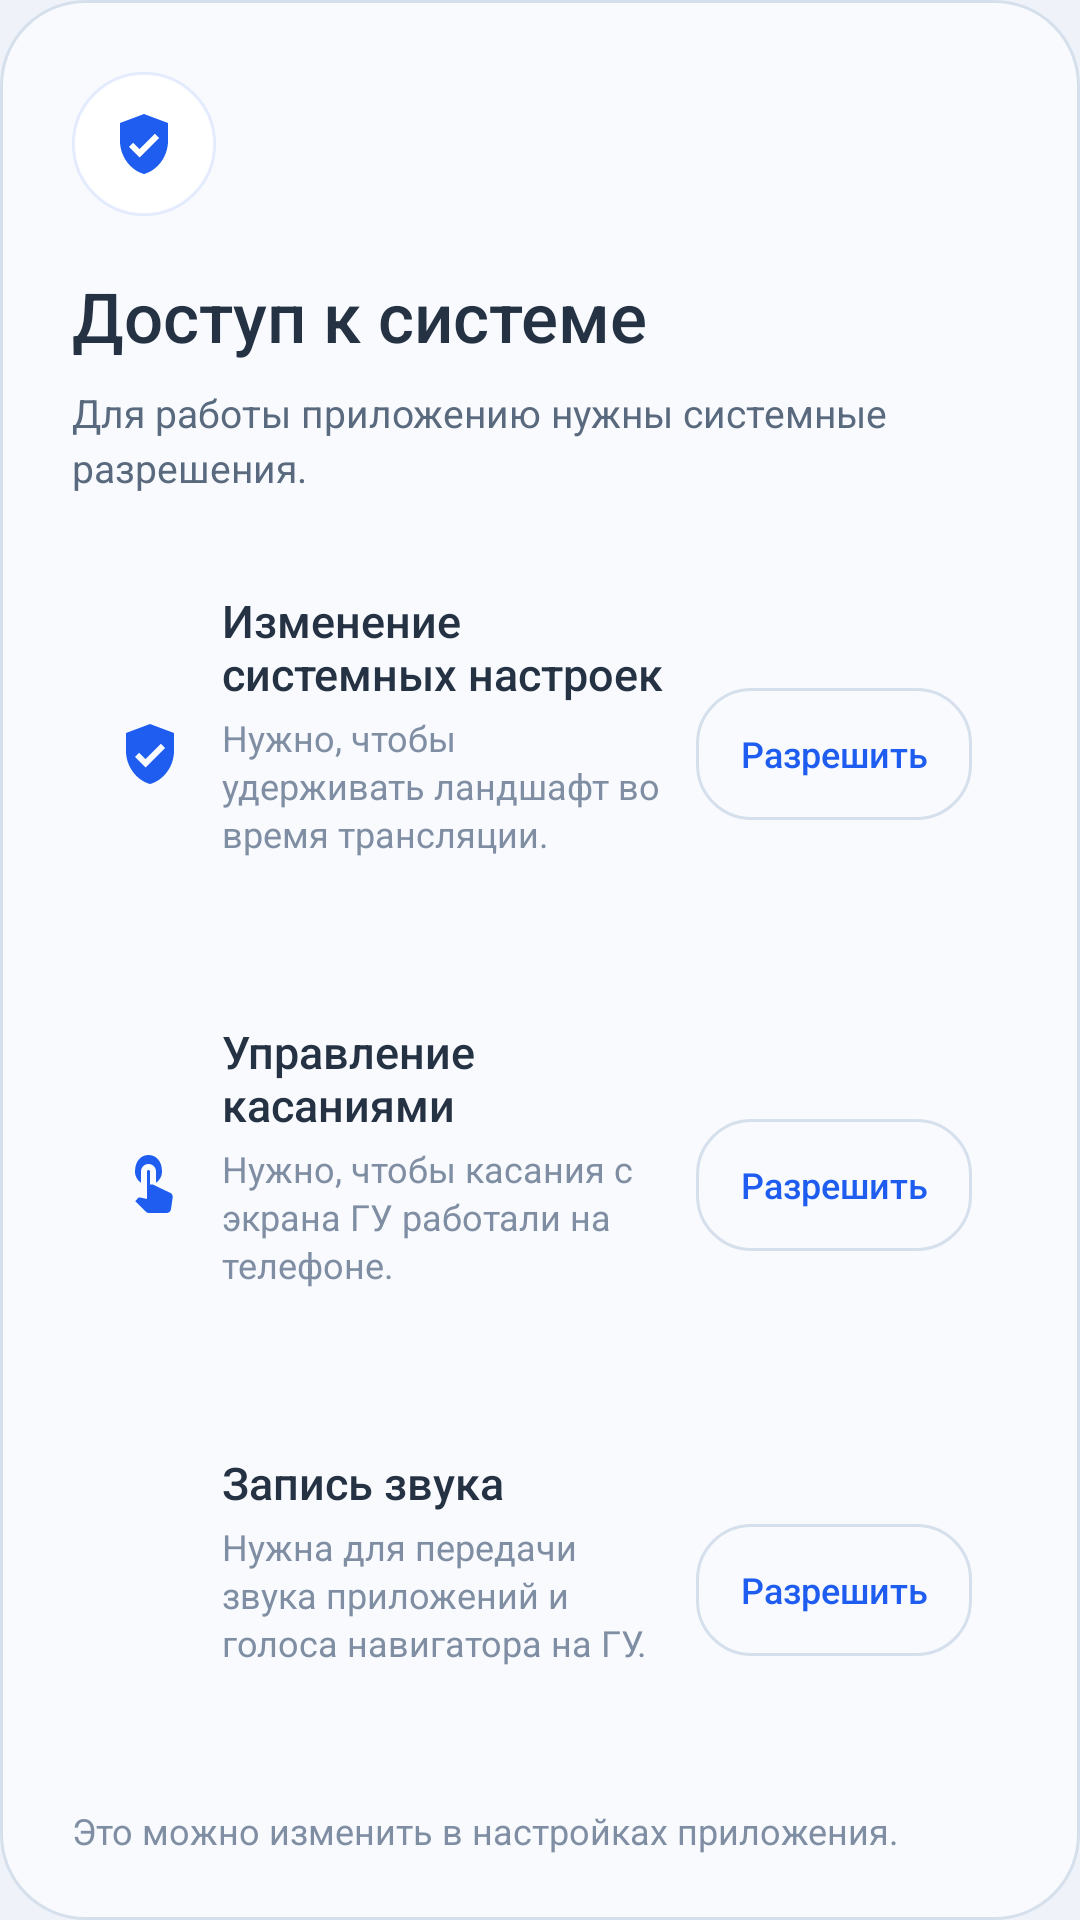

Icon bounding boxes for this 1080x1920 phone screenshot, format (left=x1, top=y1, right=x2, bottom=y2):
shield check: (left=120, top=114, right=168, bottom=174), (left=126, top=724, right=174, bottom=784)
touch: (left=135, top=1155, right=173, bottom=1213)
